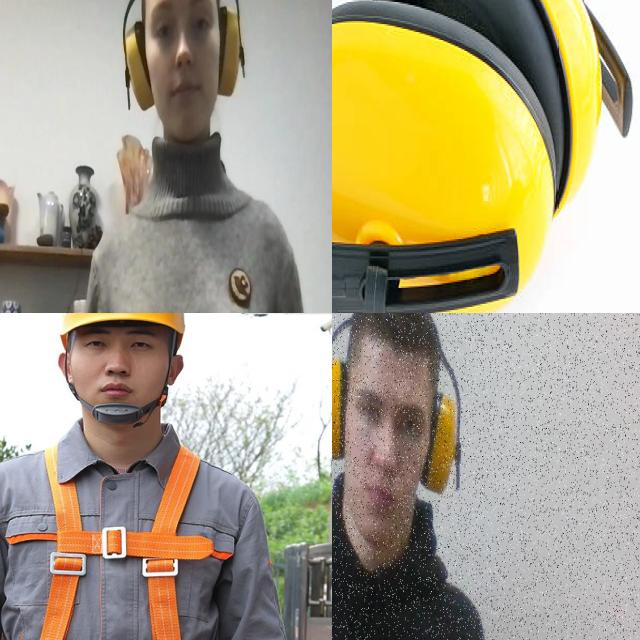Ear-protection: (332, 0, 640, 313), (332, 313, 478, 577), (119, 0, 246, 147)
Harness: (0, 458, 203, 640)
No_Glasses: (146, 0, 216, 48), (80, 329, 160, 362)
